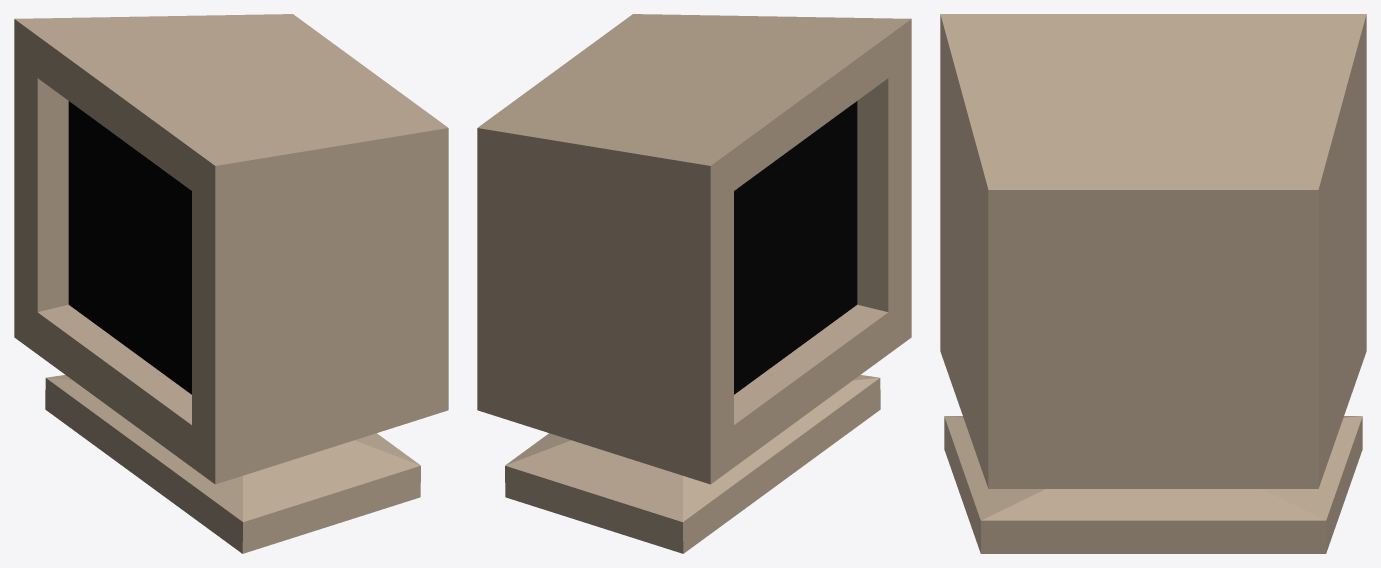
The model's file is potion6.glb.
The picture shows the model from 3 angles, left to right: view 1: azimuth 30°, elevation 25°; view 2: azimuth 150°, elevation 25°; view 3: azimuth 270°, elevation 25°; orthographic projection. The views are drawn at different scales.
Parts seen in each view (by area): view 1: Cube.006; view 2: Cube.006; view 3: Cube.006.
Part boxes in pixels (x1,y1,x2,y2): Cube.006: [14, 14, 448, 553]; Cube.006: [477, 14, 911, 553]; Cube.006: [940, 14, 1366, 553].
Size of the model in its own units: 1.47 by 2.2 by 2.
